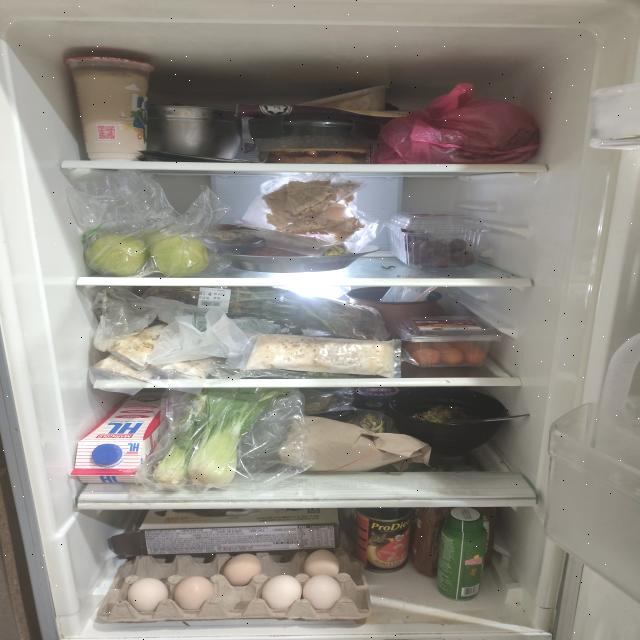apple: (85, 224, 210, 278)
egg: (96, 549, 366, 624)
grape: (401, 230, 476, 268)
pakchoy: (153, 388, 293, 490)
tempeh: (94, 322, 220, 383), (244, 333, 396, 379)
unknown_bag: (370, 82, 540, 164)
